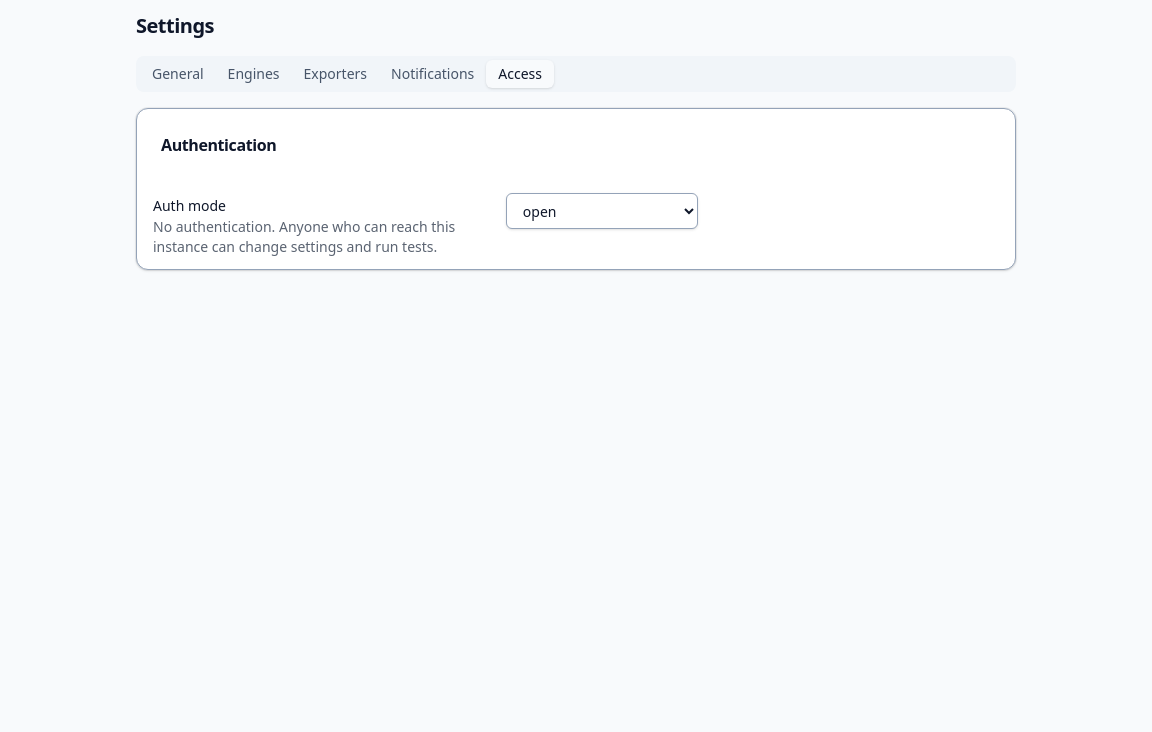
Scenario: Settings page › shows the forward_auth validation error on the trusted-proxies field too
The image size is (1152, 732).
Select "forward_auth" in the dropdown labelled "Auth mode" at (602, 211), box [506,193,698,229]
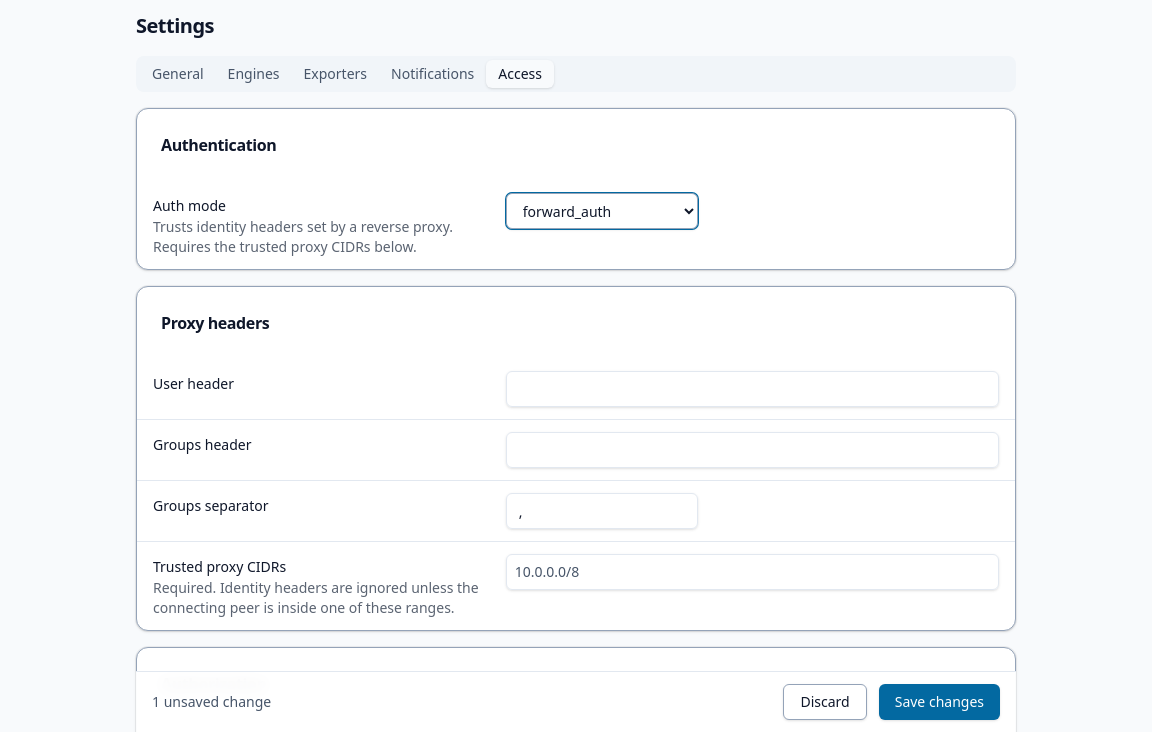
Click the button "Save changes" at (939, 702), box [879,684,1000,720]
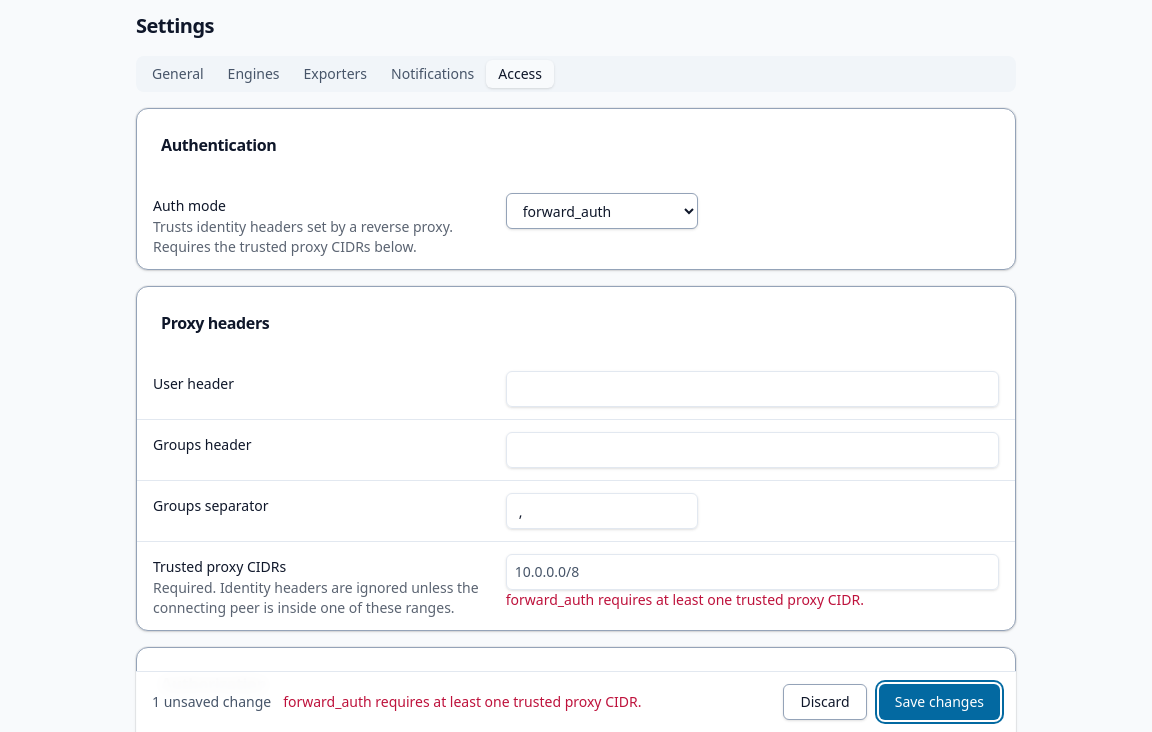
expect the text "forward_auth requires at least one trusted proxy CIDR." is shown 2 times: met, box [506,590,864,609]; [283,692,642,712]
